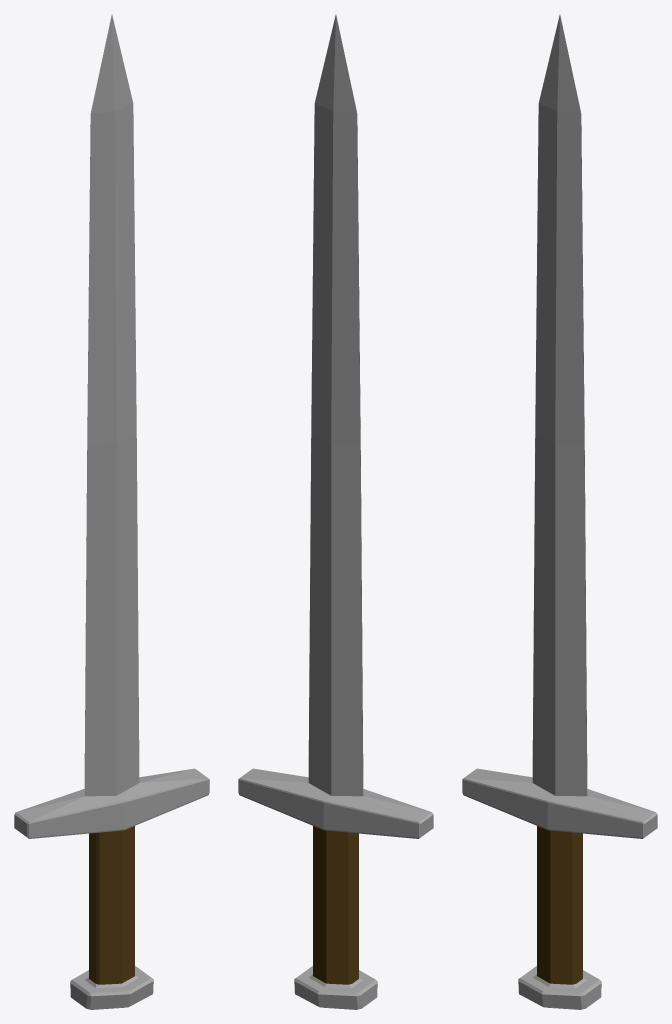
The model's file is Sword.fbx.
3 views of the same model, side by side, from view 1: azimuth 30°, elevation 25°; view 2: azimuth 150°, elevation 25°; view 3: azimuth 330°, elevation 25° (orthographic).
Parts seen in each view (by area): view 1: Sword; view 2: Sword; view 3: Sword.
Part boxes in pixels (x1=…): Sword: x1=14, y1=14, x2=209, y2=1009; Sword: x1=238, y1=14, x2=433, y2=1009; Sword: x1=462, y1=14, x2=657, y2=1009.
Size of the model in its own units: 16.66 by 85.83 by 5.71.
